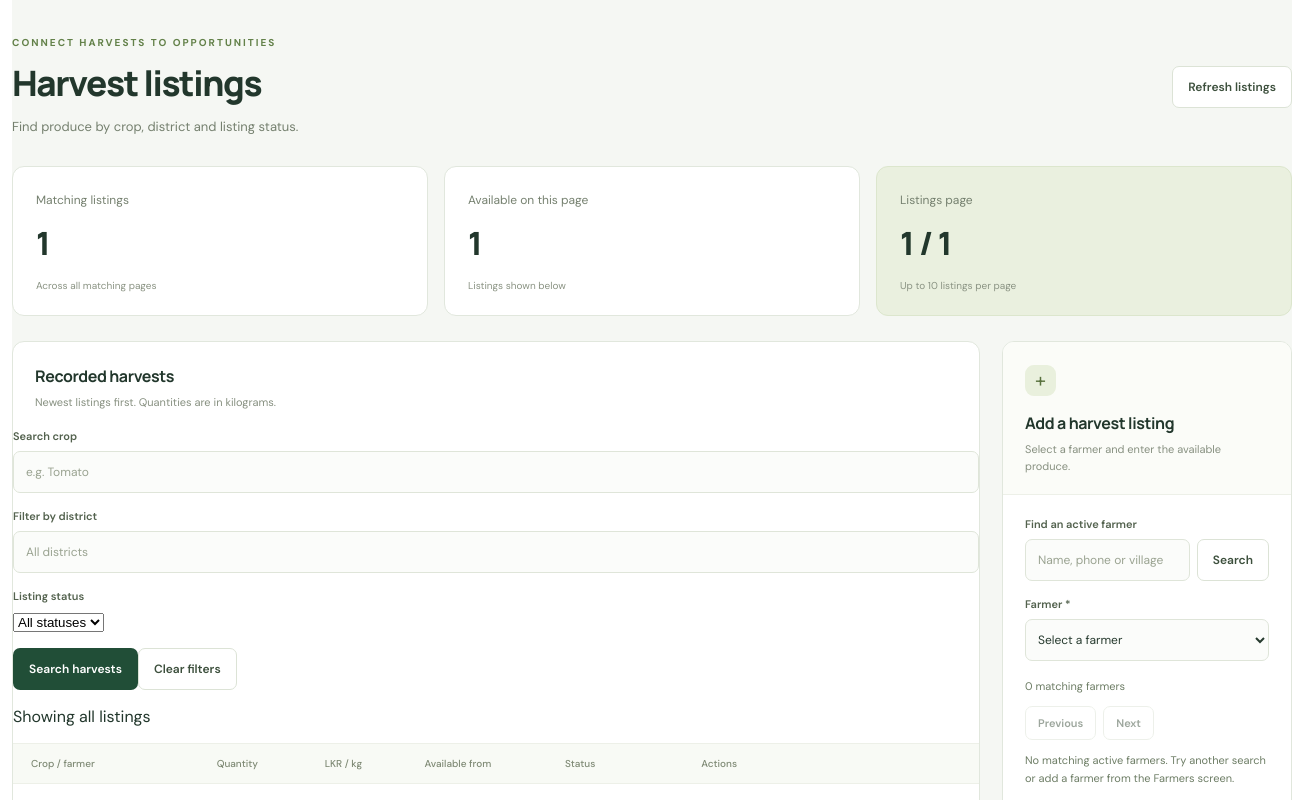
it: Harvest search › clears the fields and returns to unfiltered listings
Type "  Tomato  " into the field labelled "Search crop". click: [496, 472]
box: [13,451,979,493]
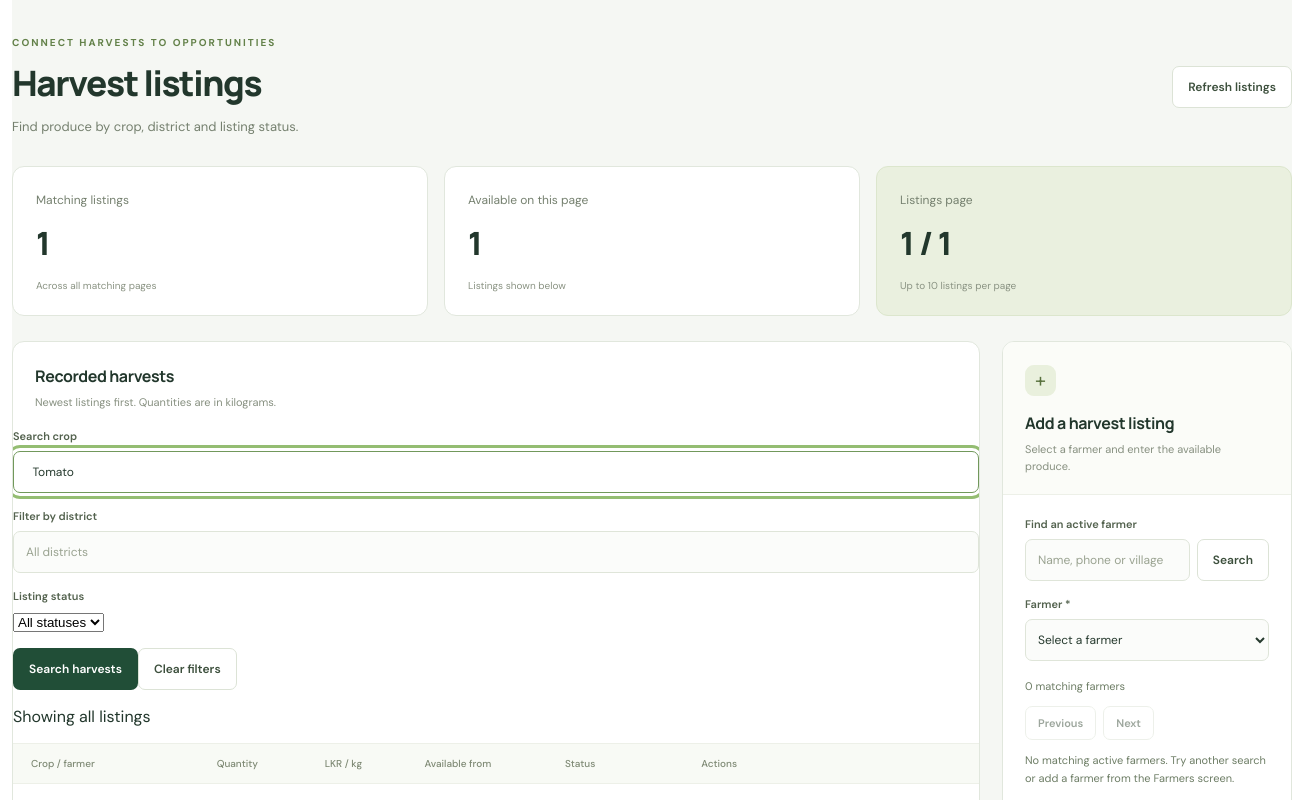
Type "  Matale  " into the field labelled "Filter by district". click: [496, 552]
box: [13,531,979,573]
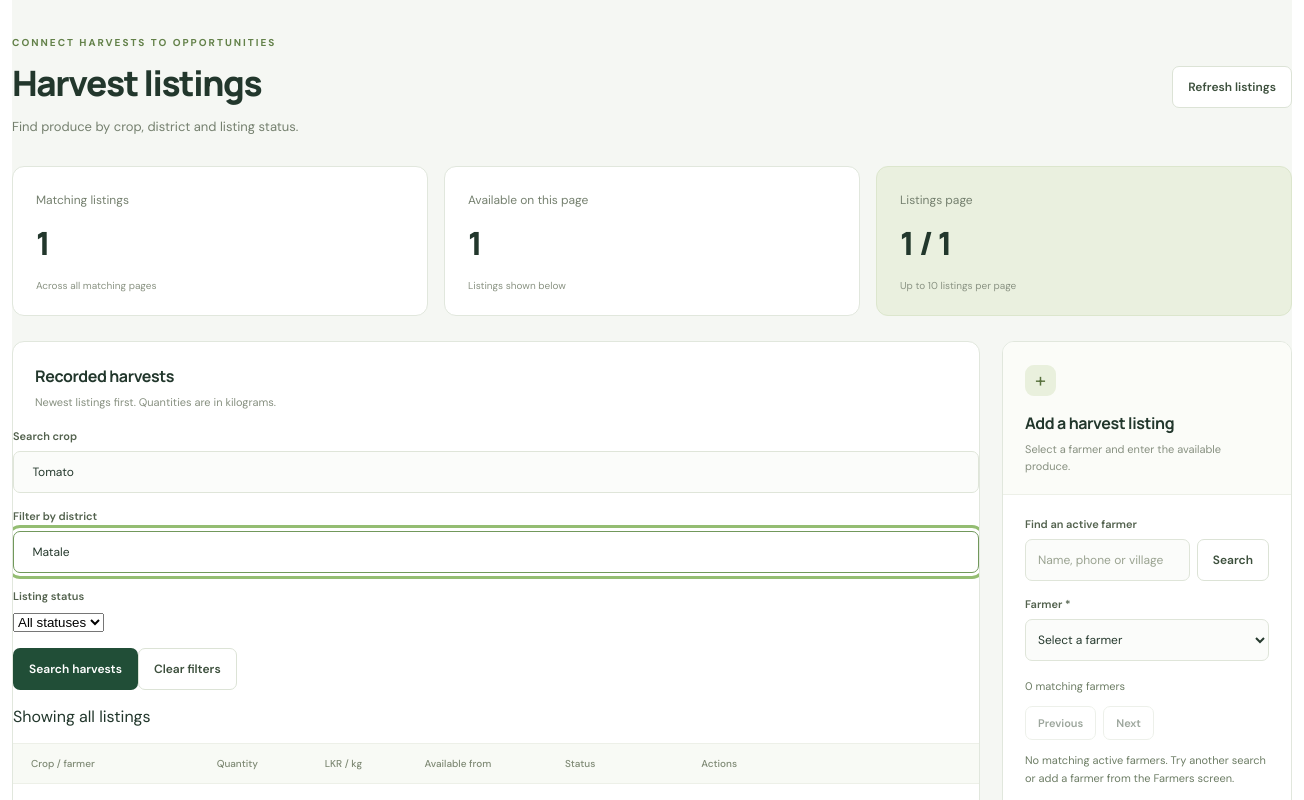
Select "Available" in the dropdown labelled "Listing status". click: [58, 623]
box: [13,613,104,632]
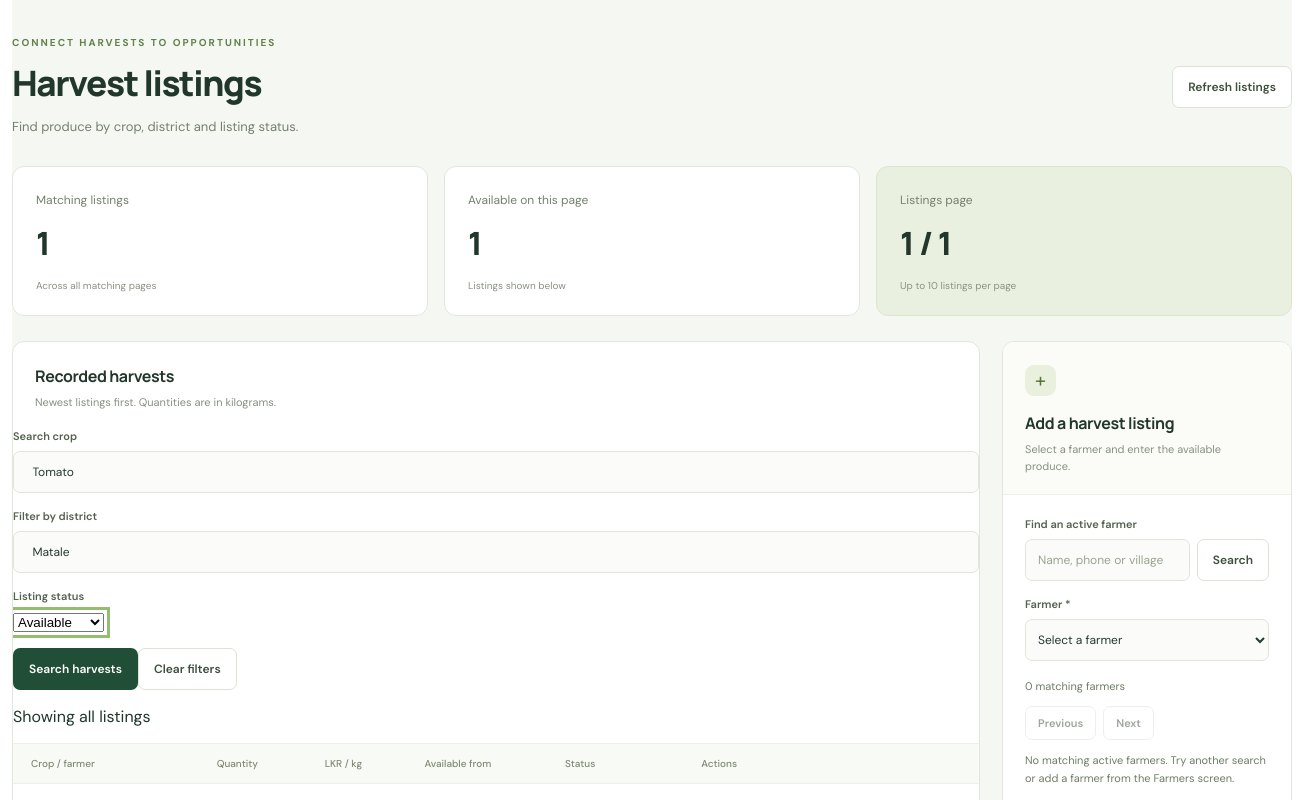
Click the button "Search harvests". click: [75, 669]
box: [13,648,138,690]
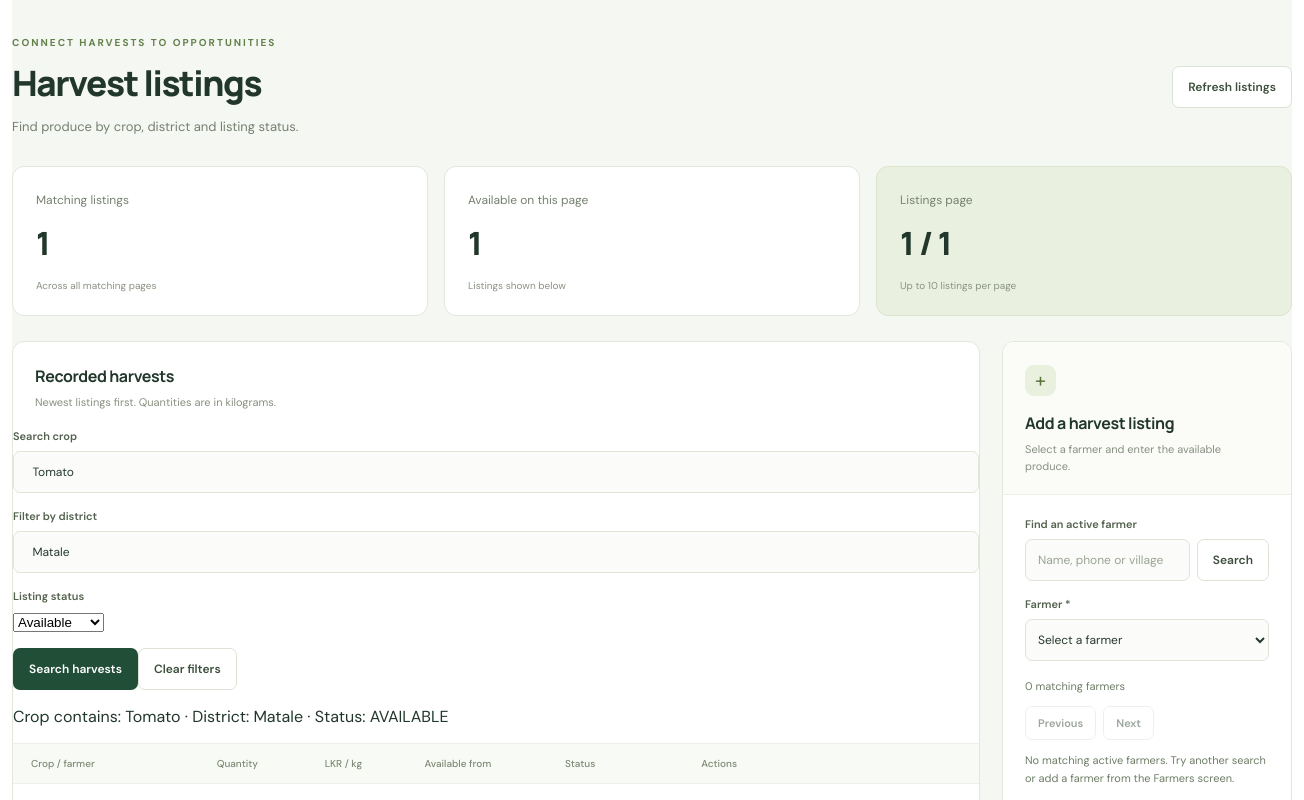
Expected: the button "Refresh listings" is enabled, [1172,66,1292,108]
Click the button "Clear filters". click: [187, 669]
box: [138,648,237,690]
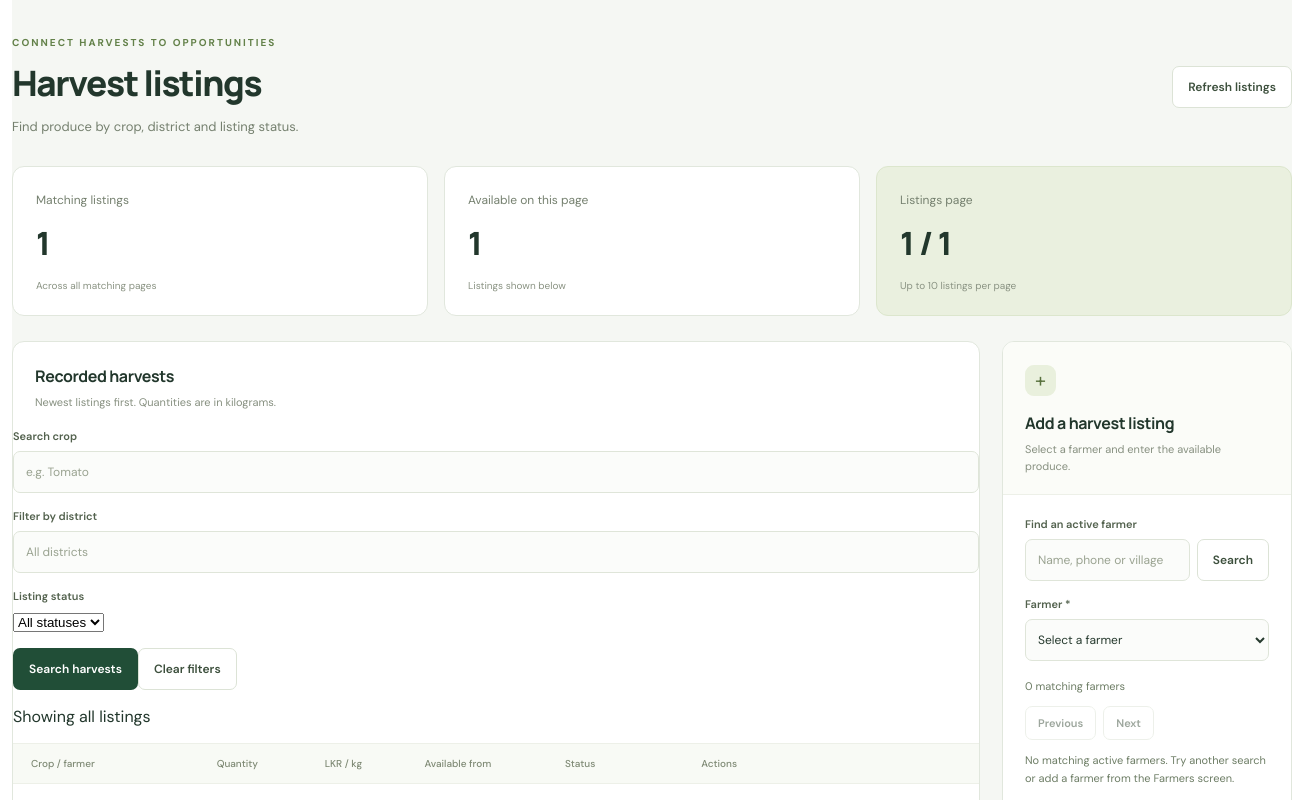
Expected: the field labelled "Search crop" is empty, [13,451,979,493]
Expected: the field labelled "Filter by district" is empty, [13,531,979,573]
Expected: the text "Showing all listings" is shown, [13,706,150,727]
